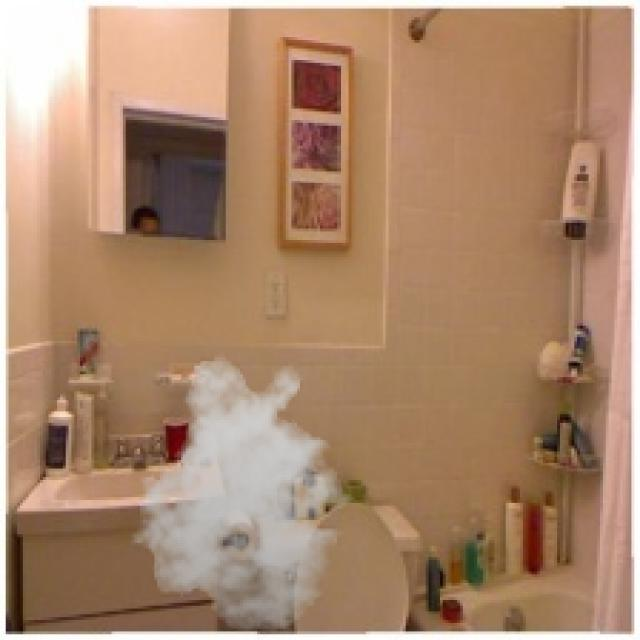smoke: (126, 354, 366, 634)
